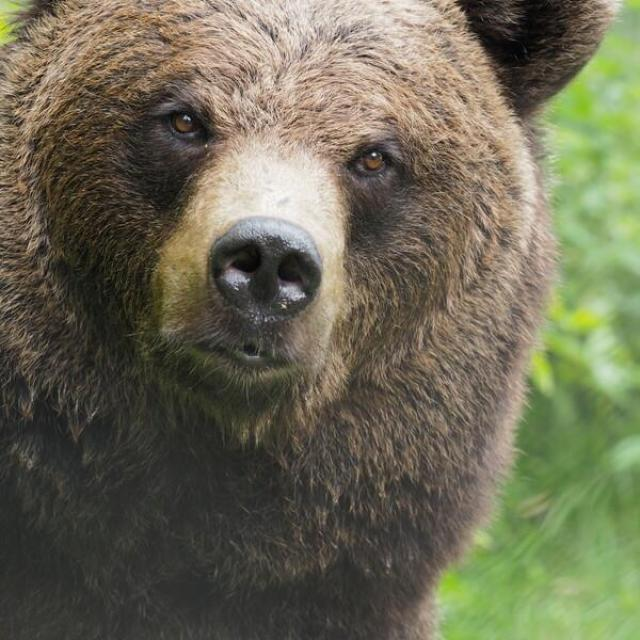Bear: (0, 0, 623, 640)
